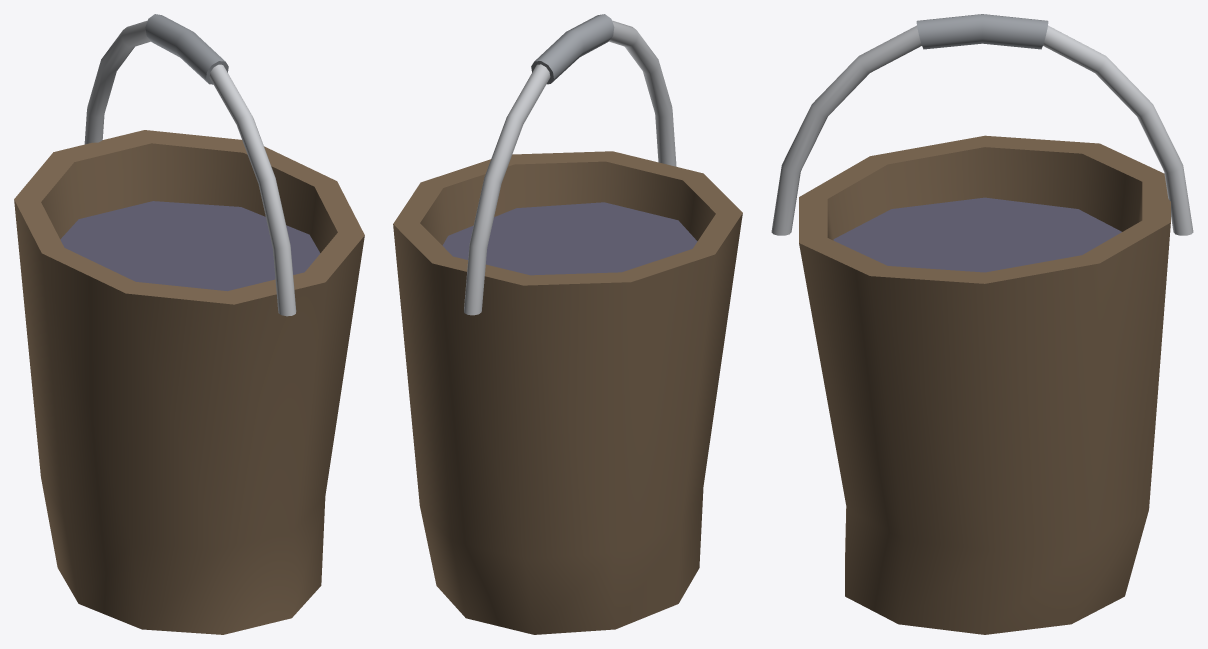
File: P_Bucket_01_LD.fbx
3 renders of one model, left to right at view 1: azimuth 30°, elevation 25°; view 2: azimuth 150°, elevation 25°; view 3: azimuth 270°, elevation 25°, orthographic. The views are drawn at different scales.
Visible parts, largest first — view 1: P_Bucket_01; view 2: P_Bucket_01; view 3: P_Bucket_01.
Part boxes in pixels (box(x1,y1,x2,y2)): P_Bucket_01: box(14, 14, 364, 634); P_Bucket_01: box(393, 14, 742, 634); P_Bucket_01: box(771, 14, 1193, 634).
Bounding box in the file's own units: 28.52 × 50.52 × 34.32.
1 material, 1 textured.
